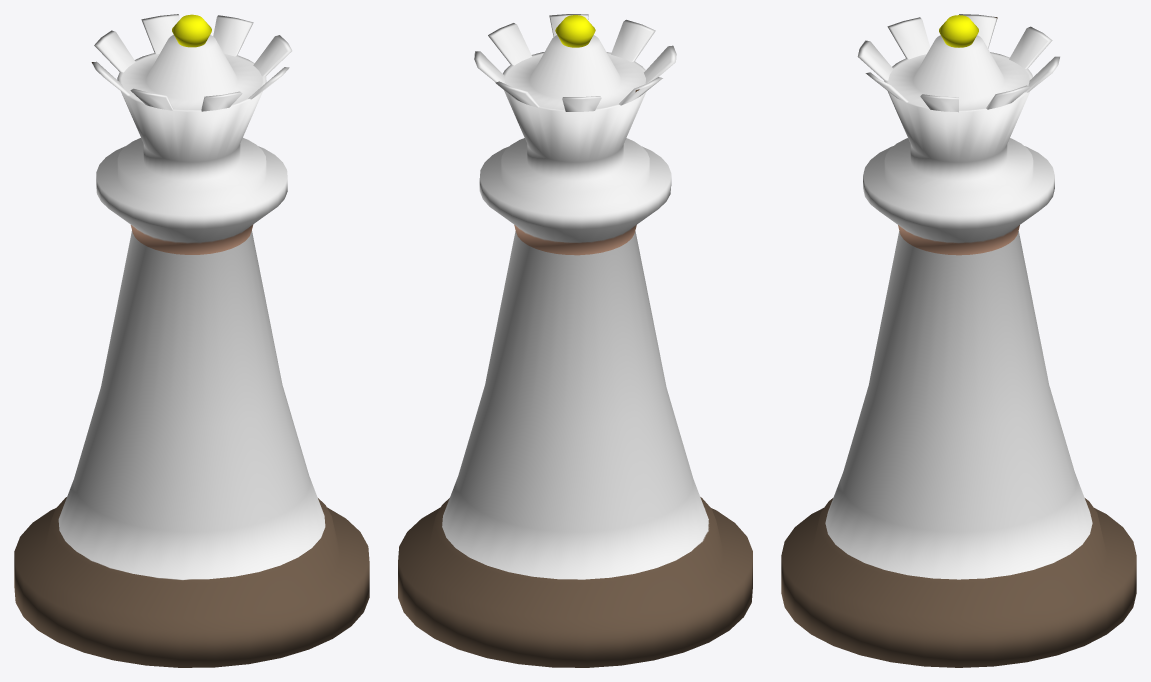
The model's file is Queen.gltf.
3 renders of one model, left to right at view 1: azimuth 30°, elevation 25°; view 2: azimuth 150°, elevation 25°; view 3: azimuth 270°, elevation 25°, orthographic.
Visible parts, largest first — view 1: クイーン; view 2: クイーン; view 3: クイーン.
Boxes of the visible parts, x1=… form: クイーン: x1=14, y1=14, x2=369, y2=667; クイーン: x1=398, y1=14, x2=752, y2=667; クイーン: x1=781, y1=14, x2=1136, y2=667.
Size of the model in its own units: 0.8681 by 1.54 by 0.8681.
Materials: 1 (1 with a texture image).
